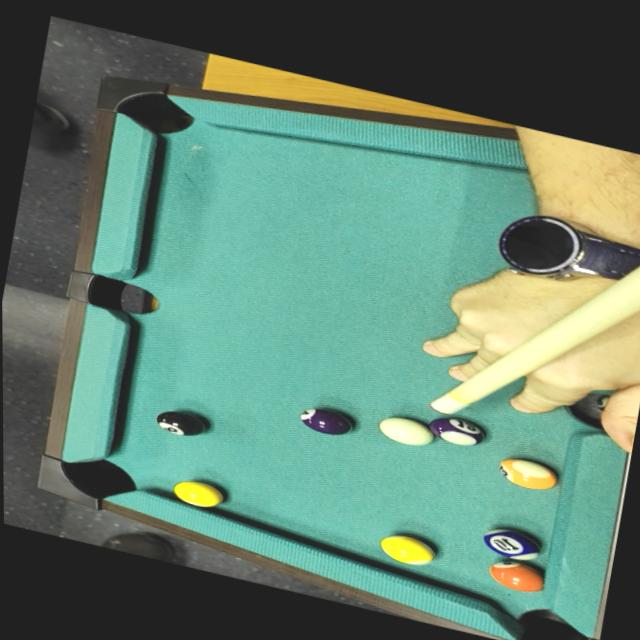cue ball: (374, 410, 438, 453)
other: (489, 450, 561, 499), (484, 554, 554, 600), (474, 520, 542, 566), (373, 526, 440, 571), (165, 474, 233, 515), (293, 402, 359, 442), (425, 411, 487, 452), (151, 402, 210, 441)
